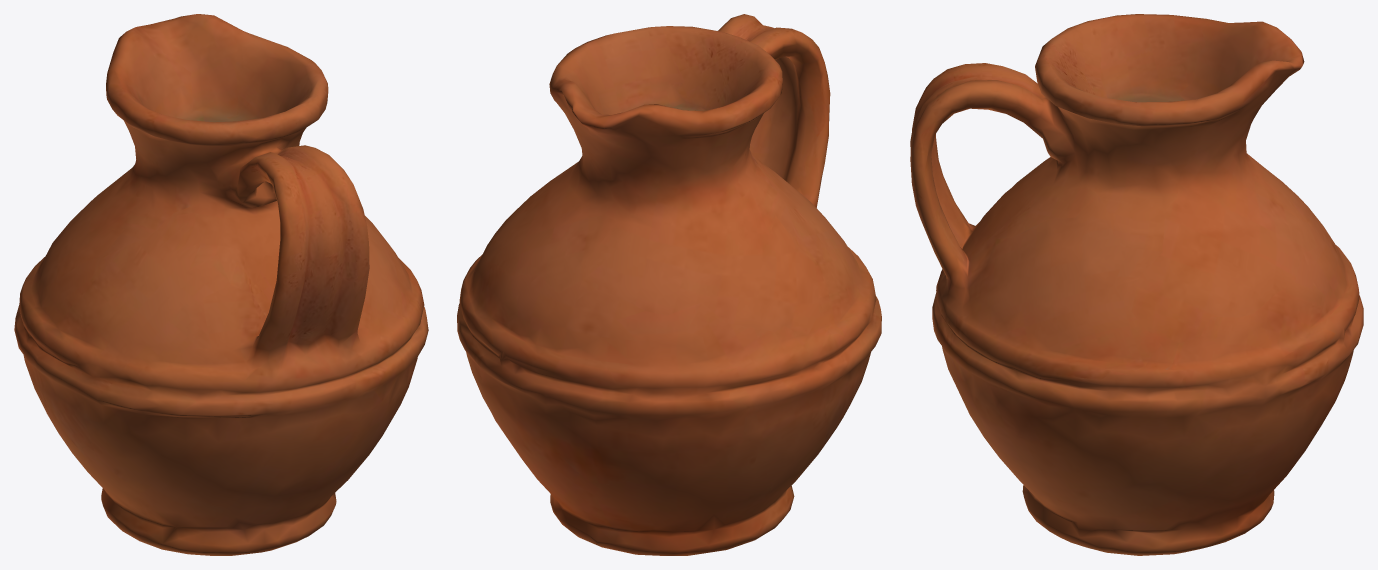
Rendered from jug.glb.
3 views of the same model, side by side, from view 1: azimuth 30°, elevation 25°; view 2: azimuth 150°, elevation 25°; view 3: azimuth 270°, elevation 25° (orthographic). The views are drawn at different scales.
Visible parts, largest first — view 1: tripo_node_e8707623-3392-47d6-b034-f9230bb48546; view 2: tripo_node_e8707623-3392-47d6-b034-f9230bb48546; view 3: tripo_node_e8707623-3392-47d6-b034-f9230bb48546.
Boxes of the visible parts, x1,y1,x2,y2 form: tripo_node_e8707623-3392-47d6-b034-f9230bb48546: (14,14,428,555); tripo_node_e8707623-3392-47d6-b034-f9230bb48546: (457,14,881,555); tripo_node_e8707623-3392-47d6-b034-f9230bb48546: (910,14,1363,555).
Size of the model in its own units: 0.8349 by 0.9996 by 0.87.
1 material, 1 textured.
